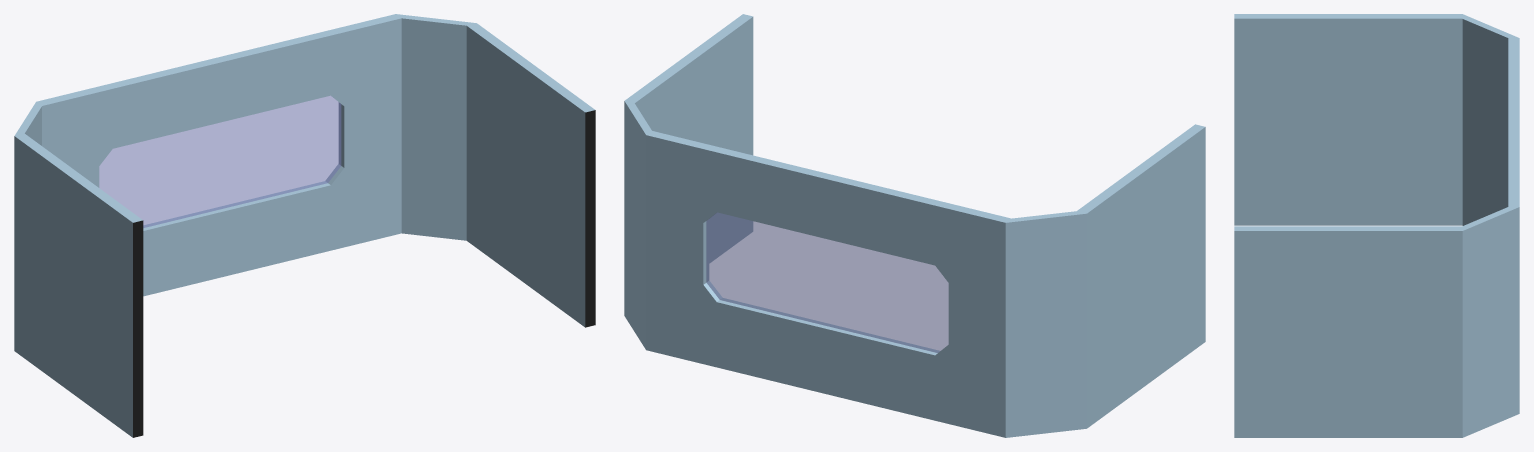
File: Block_02.fbx
3 renders of one model, left to right at view 1: azimuth 30°, elevation 25°; view 2: azimuth 150°, elevation 25°; view 3: azimuth 270°, elevation 25°, orthographic. The views are drawn at different scales.
Parts seen in each view (by area): view 1: Block_02; view 2: Block_02; view 3: Block_02.
Boxes of the visible parts, left/top/right/bottom form: Block_02: left=14, top=14, right=595, bottom=437; Block_02: left=624, top=14, right=1205, bottom=437; Block_02: left=1234, top=14, right=1519, bottom=437.
Bounding box in the file's own units: 9 × 4 × 5.
